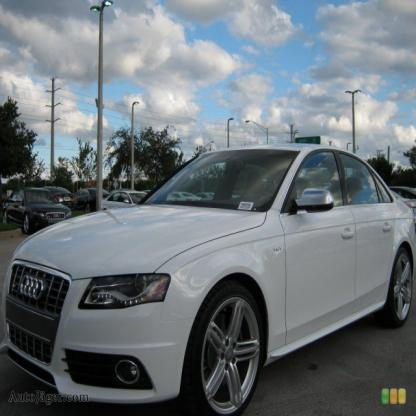Vehicle: (2, 141, 415, 415)
